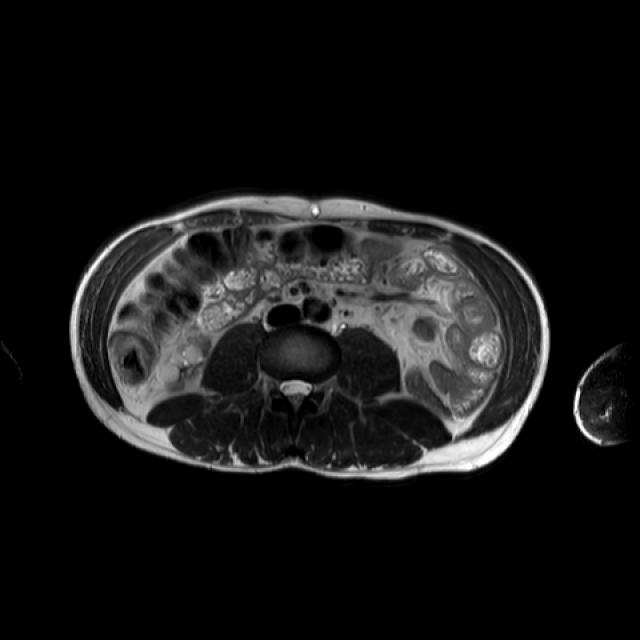sag: (157, 325, 210, 391)
